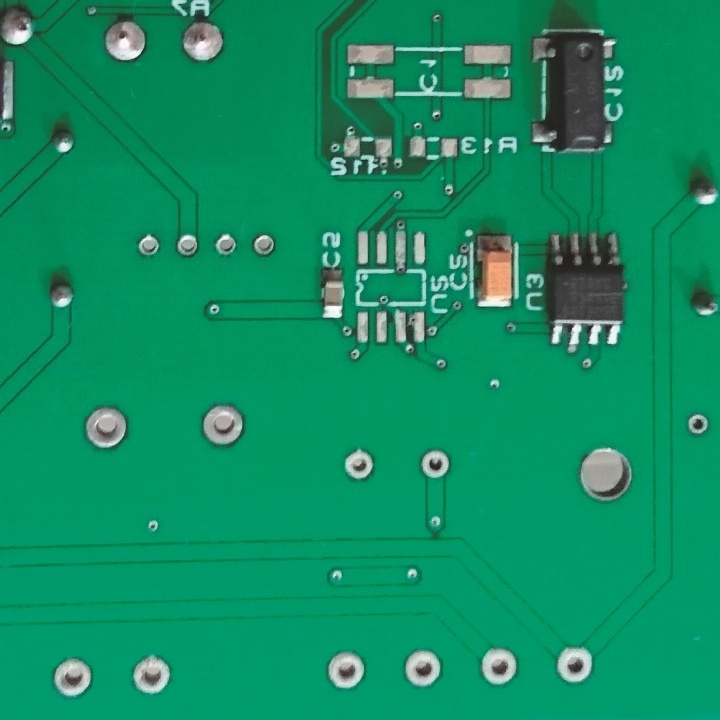F: (177, 14, 228, 65), (198, 403, 250, 452), (81, 401, 130, 453), (49, 653, 97, 702), (101, 17, 151, 63), (128, 654, 176, 698), (551, 640, 596, 686), (399, 646, 444, 691), (324, 649, 368, 694), (477, 644, 521, 689), (340, 447, 376, 483), (418, 445, 452, 480), (684, 411, 717, 440), (250, 227, 278, 261), (133, 230, 163, 261), (173, 230, 201, 261), (210, 230, 239, 258)
